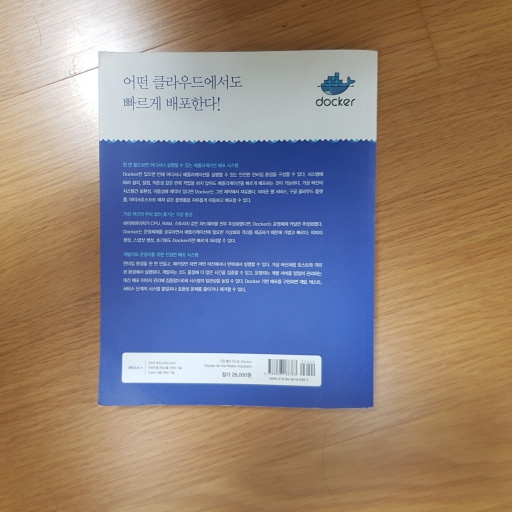Paper_0: (87, 42, 385, 415)
